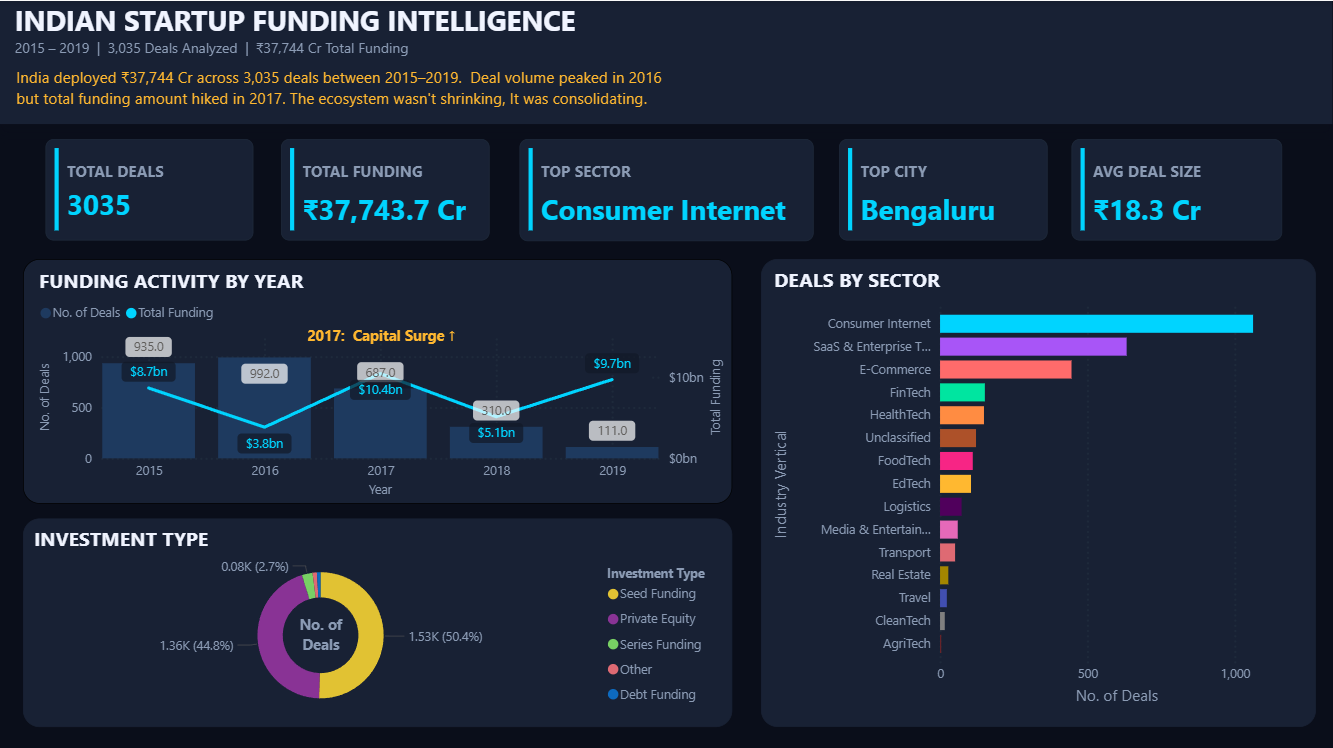

Layout of this report page (visuals, bound fields, positions):
{"tool":"powerbi","page":{"name":"Page1_Overview","canvas":[1280,720],"ordinal":0},"visuals":[{"type":"textbox","title":"INDIAN STARTUP FUNDING INTELLIGENCE","box":[0,0,1279.5,118.1],"z":0},{"type":"cardVisual","title":"TOTAL DEALS","fields":{"Data":["CountNonNull(fact_funding.funding_id)"]},"box":[45,132.5,199.4,97.5],"z":1000},{"type":"cardVisual","fields":{"Data":["fact_funding.Top Sector"]},"box":[499,132.3,281.9,97.8],"z":2000},{"type":"cardVisual","fields":{"Data":["fact_funding.TOTAL FUNDING"]},"box":[270.6,132.5,200,97.5],"z":3000},{"type":"cardVisual","fields":{"Data":["fact_funding.AVG DEAL SIZE"]},"box":[1028.8,132.5,201.9,97.5],"z":4000},{"type":"cardVisual","fields":{"Data":["fact_funding.Top City"]},"box":[805,132.5,200,97.5],"z":5000},{"type":"lineClusteredColumnComboChart","title":"FUNDING ACTIVITY BY YEAR","fields":{"Category":["dim_date.year"],"Y":["CountNonNull(fact_funding.funding_id)"],"Y2":["Sum(fact_funding.amount_in_usd)"]},"box":[22.7,246.8,590.5,234.7],"z":6000},{"type":"textbox","box":[245.3,298.3,160.5,30.3],"z":7000},{"type":"barChart","title":"DEALS BY SECTOR","fields":{"Category":["dim_startup.industry_vertical"],"Y":["CountNonNull(fact_funding.funding_id)"]},"box":[626.9,246.8,533,449.7],"z":8000},{"type":"donutChart","title":"INVESTMENT TYPE","fields":{"Y":["CountNonNull(fact_funding.funding_id)"],"Category":["dim_investment_type.Investment Group"]},"box":[22.7,496.7,590.5,199.9],"z":9000},{"type":"textbox","box":[232,583,62.1,48.5],"z":10000},{"type":"textbox","box":[10.6,59.1,825.2,60.6],"z":11000},{"type":"actionButton","title":"GEOGRAPHY ","box":[1170.5,340.7,100,40],"z":11006},{"type":"actionButton","title":"INVESTOR","box":[1170.5,452.7,100,40],"z":11007},{"type":"actionButton","title":"TRENDS","box":[1170.5,567.8,100,40],"z":11008},{"type":"textbox","title":"- OVERVIEW","box":[563.3,2,299.8,33.3],"z":11009}]}

Visuals, with their boxes in screenshot pixels (x1, y1, x2, y2), scaled from the page's 1280x720 canvas onto the 1333x748 screenshot:
"INDIAN STARTUP FUNDING INTELLIGENCE" textbox: <box>0,0,1332,123</box>
"TOTAL DEALS" cardVisual: <box>47,138,255,239</box>
cardVisual - fact_funding.Top Sector: <box>520,137,813,239</box>
cardVisual - fact_funding.TOTAL FUNDING: <box>282,138,490,239</box>
cardVisual - fact_funding.AVG DEAL SIZE: <box>1071,138,1282,239</box>
cardVisual - fact_funding.Top City: <box>838,138,1047,239</box>
"FUNDING ACTIVITY BY YEAR" lineClusteredColumnComboChart: <box>24,256,639,500</box>
textbox: <box>255,310,423,341</box>
"DEALS BY SECTOR" barChart: <box>653,256,1208,724</box>
"INVESTMENT TYPE" donutChart: <box>24,516,639,724</box>
textbox: <box>242,606,306,656</box>
textbox: <box>11,61,870,124</box>
"GEOGRAPHY " actionButton: <box>1219,354,1323,396</box>
"INVESTOR" actionButton: <box>1219,470,1323,512</box>
"TRENDS" actionButton: <box>1219,590,1323,631</box>
"- OVERVIEW" textbox: <box>587,2,899,37</box>
